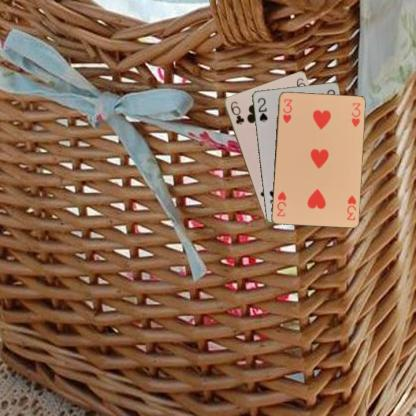2s: (254, 95, 269, 123)
3h: (280, 96, 294, 124), (344, 192, 357, 222)
6c: (228, 99, 246, 126)
